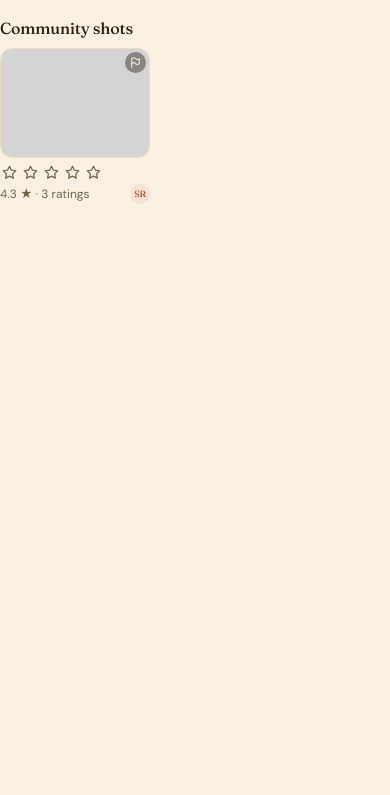
Test: reporting a community shot › lists every reason in the picker
The width and height of the screenshot is (390, 795).
What coordinates should you click on to do the following:
click the button named "report this shot"
I would click on:
 (136, 62)
Its box is top-left (125, 52), bottom-right (146, 73).
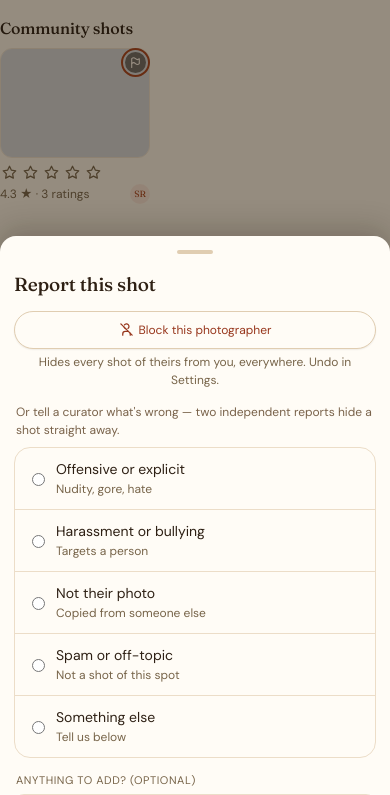
Result: the radio button labelled "Offensive or explicit Nudity, gore, hate" is shown at top-left (32, 473), bottom-right (45, 486)
Result: the radio button labelled "Harassment or bullying Targets a person" is shown at top-left (32, 535), bottom-right (45, 548)
Result: the radio button labelled "Not their photo Copied from someone else" is shown at top-left (32, 597), bottom-right (45, 610)
